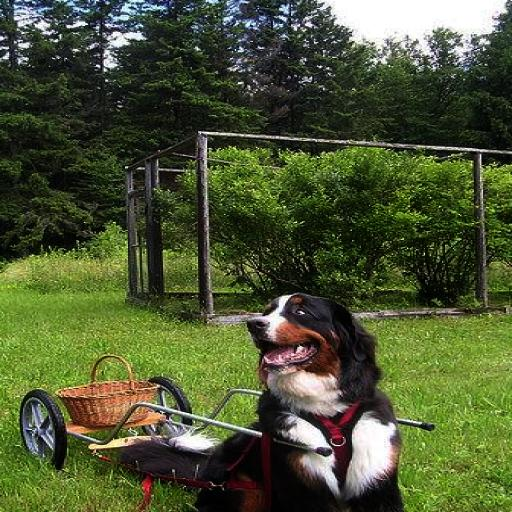dog_face: (240, 291, 385, 378)
